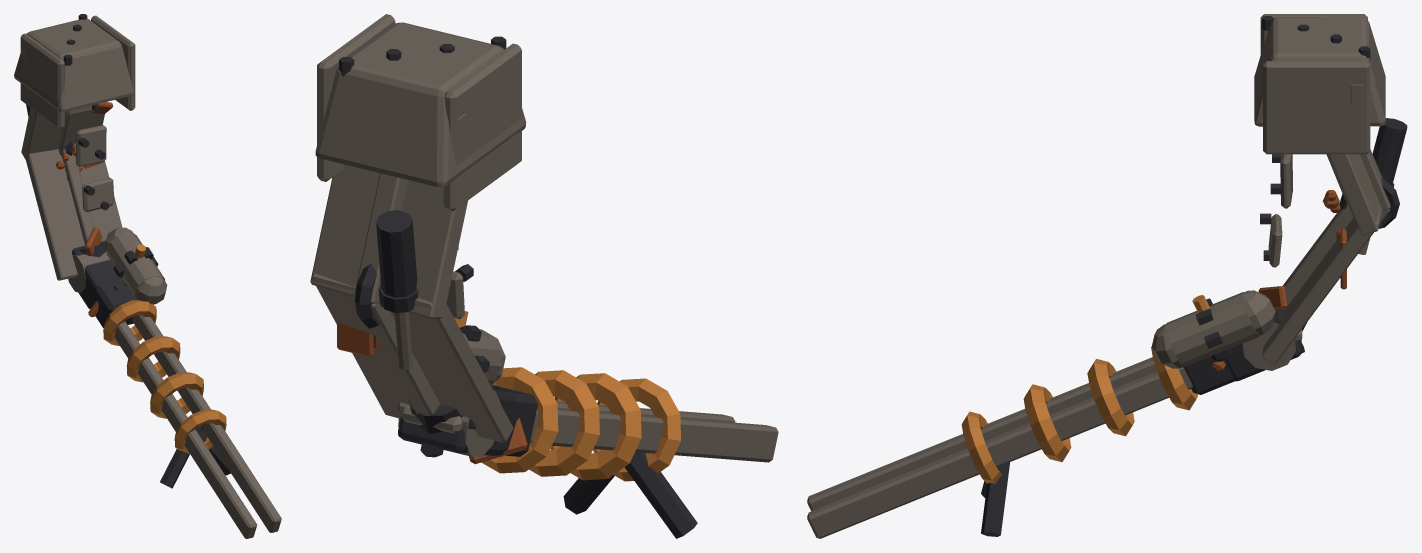
The model's file is ar_railgun.glb.
The picture shows the model from 3 angles, left to right: view 1: azimuth 30°, elevation 25°; view 2: azimuth 150°, elevation 25°; view 3: azimuth 270°, elevation 25°; orthographic projection. The views are drawn at different scales.
Parts seen in each view (by area): view 1: ar_railgun; view 2: ar_railgun; view 3: ar_railgun.
Boxes of the visible parts, bbox=[...] form: ar_railgun: bbox=[14, 14, 281, 538]; ar_railgun: bbox=[310, 14, 778, 538]; ar_railgun: bbox=[807, 14, 1407, 538].
Size of the model in its own units: 0.1194 by 0.527 by 0.5767.
